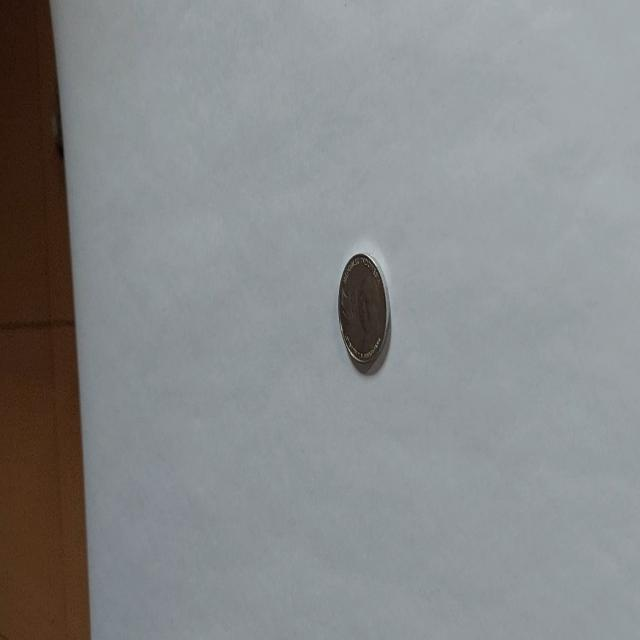lima ratus rupiah: (336, 250, 391, 374)
